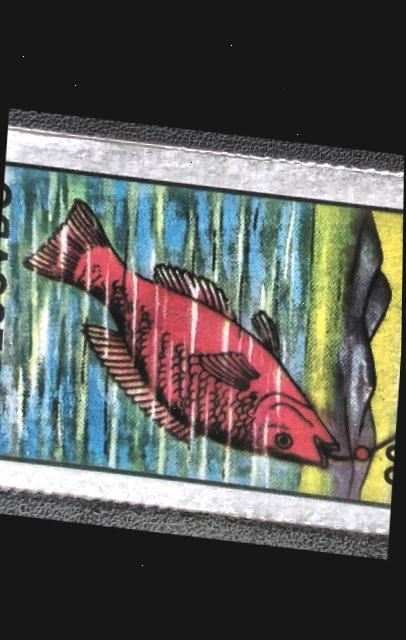El Pescado: (0, 144, 404, 509)
